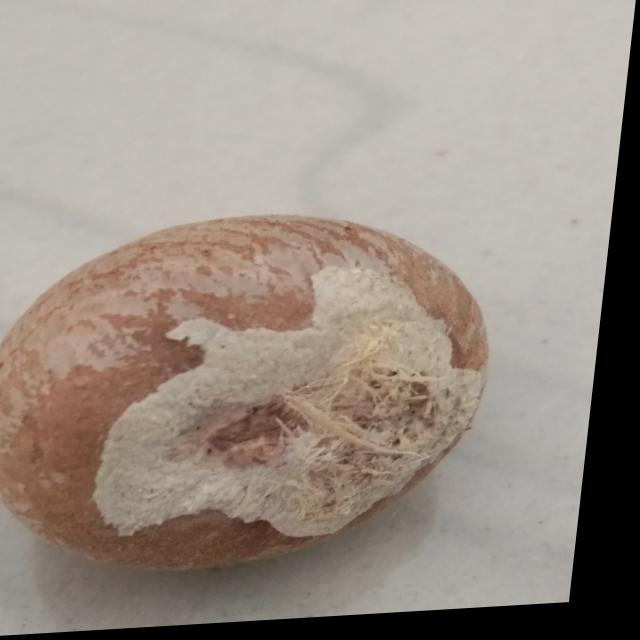good: (0, 189, 522, 610)
